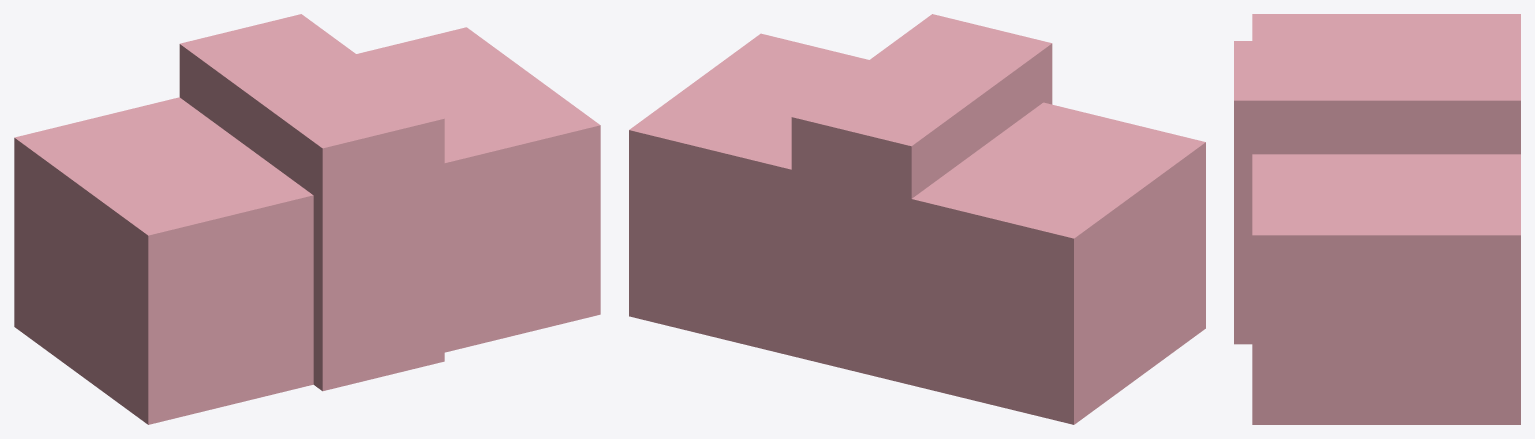
Rendered from casa_rosada.glb.
The picture shows the model from 3 angles, left to right: view 1: azimuth 30°, elevation 25°; view 2: azimuth 150°, elevation 25°; view 3: azimuth 270°, elevation 25°; orthographic projection.
Visible parts, largest first — view 1: casa_rosada; view 2: casa_rosada; view 3: casa_rosada.
Part boxes in pixels (x1,y1,x2,y2): casa_rosada: (14,14,600,424); casa_rosada: (629,14,1205,424); casa_rosada: (1234,14,1520,424).
Size of the model in its own units: 2.3 by 1.18 by 1.26.
